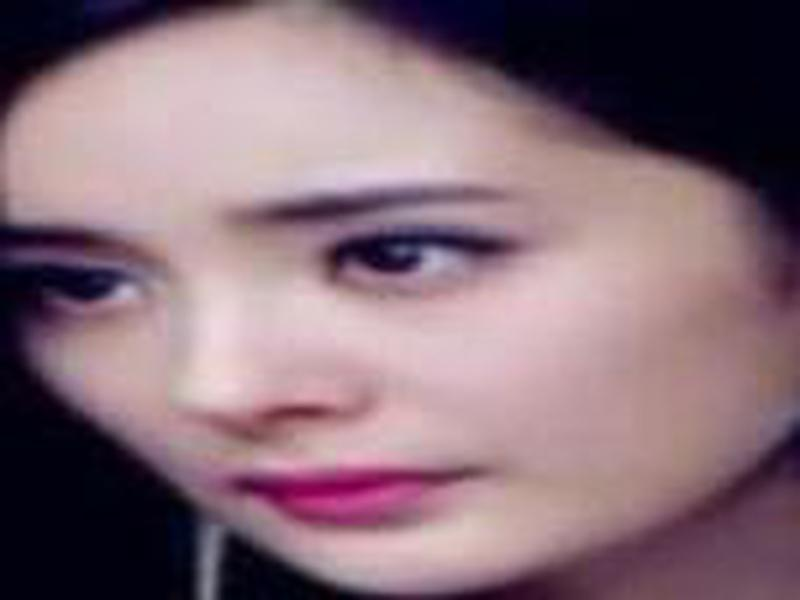without_mask: (8, 80, 770, 585)
